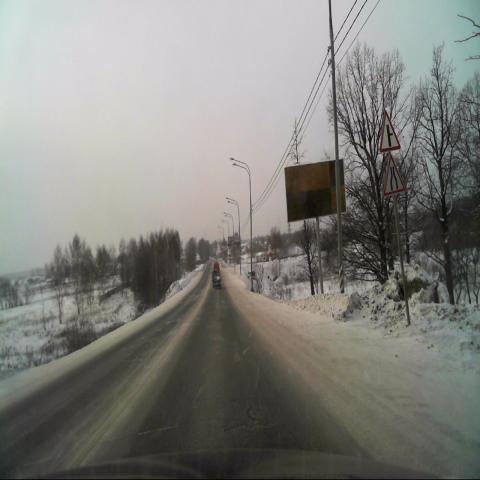1_20: (383, 155, 405, 196)
